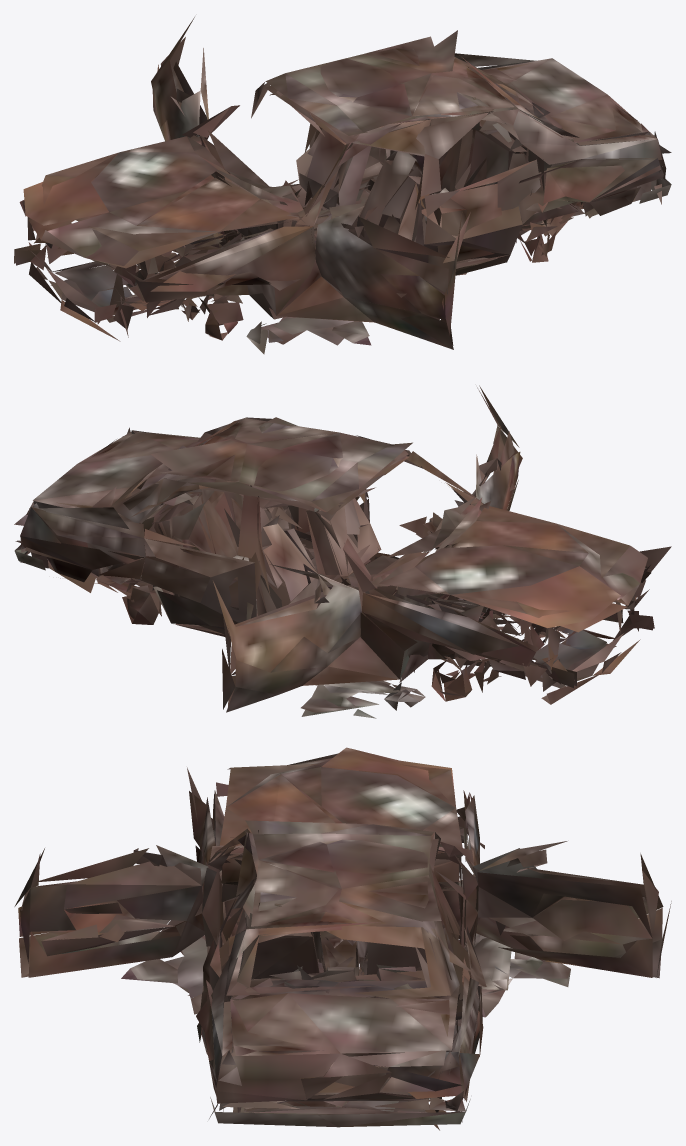
Rendered from car_wreck.glb.
The picture shows the model from 3 angles, top to bottom: view 1: azimuth 30°, elevation 25°; view 2: azimuth 150°, elevation 25°; view 3: azimuth 270°, elevation 25°; orthographic projection. The views are drawn at different scales.
Visible parts, largest first — view 1: Mesh_0; view 2: Mesh_0; view 3: Mesh_0.
Part boxes in pixels (x1=…): Mesh_0: x1=14, y1=17, x2=671, y2=354; Mesh_0: x1=14, y1=385, x2=671, y2=718; Mesh_0: x1=14, y1=747, x2=671, y2=1130.
Size of the model in its own units: 1.9 by 0.5645 by 1.69.
1 material, 1 textured.
